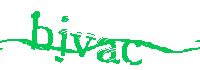a: (97, 35, 119, 65)
b: (31, 9, 53, 50)
c: (120, 37, 146, 68)
j: (56, 14, 69, 64)
v: (70, 30, 96, 60)
